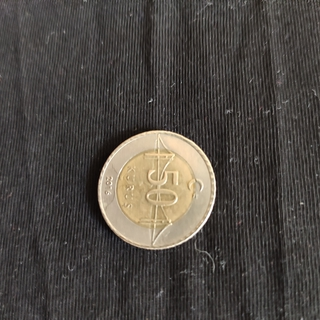50KURUS: (95, 128, 218, 250)
